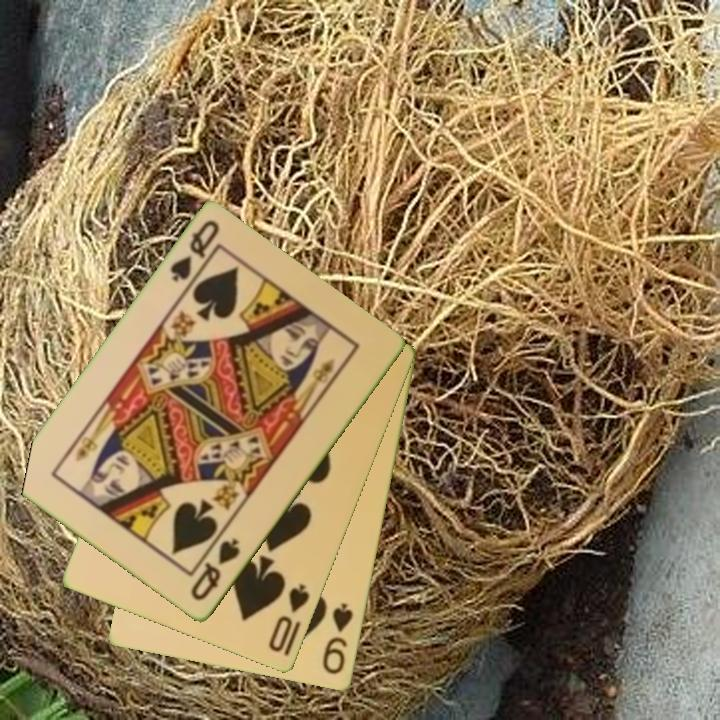10s: (265, 581, 313, 656)
9s: (319, 599, 357, 678)
Qs: (166, 217, 223, 294), (187, 535, 244, 605)
